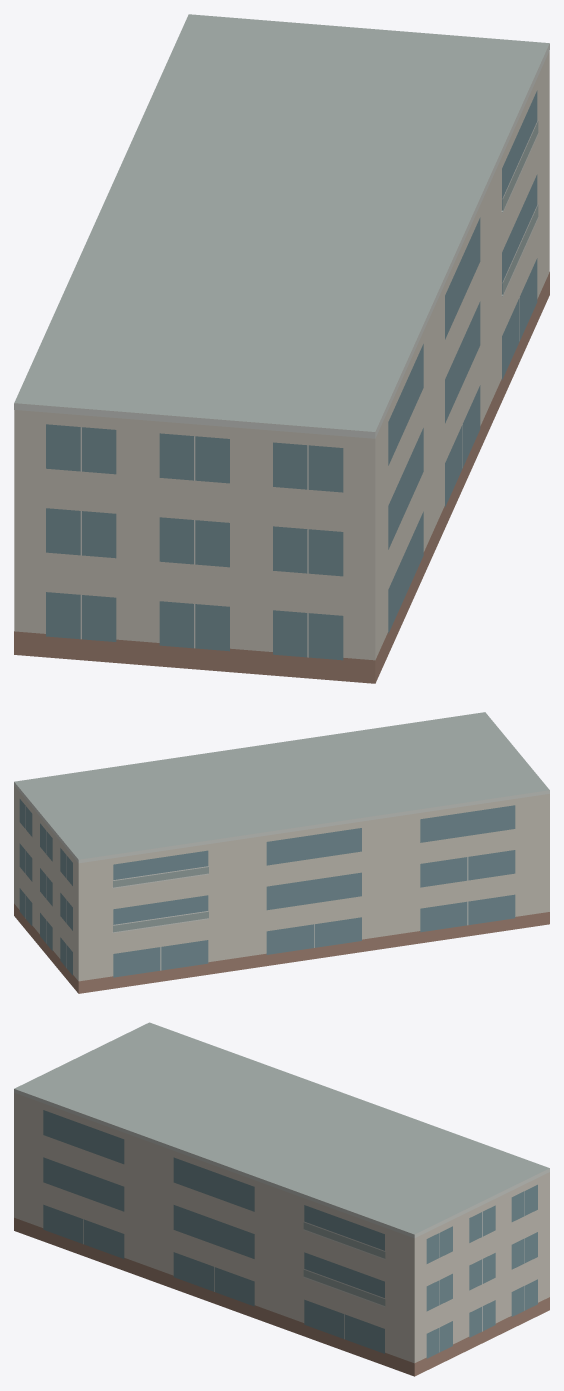
Rendered from residential-9ecfa8f3-4fd5-4fa2-b3b3-dbd990f0a59f.glb.
3 views of the same model, one above another, from view 1: azimuth 30°, elevation 25°; view 2: azimuth 150°, elevation 25°; view 3: azimuth 270°, elevation 25° (orthographic). The views are drawn at different scales.
Visible parts, largest first — view 1: residential-9ecfa8f3-4fd5-4fa2-b3b3-dbd990f0a59f.tmp; view 2: residential-9ecfa8f3-4fd5-4fa2-b3b3-dbd990f0a59f.tmp; view 3: residential-9ecfa8f3-4fd5-4fa2-b3b3-dbd990f0a59f.tmp.
Part boxes in pixels (left/top/right/bottom): residential-9ecfa8f3-4fd5-4fa2-b3b3-dbd990f0a59f.tmp: left=14, top=14, right=549, bottom=683; residential-9ecfa8f3-4fd5-4fa2-b3b3-dbd990f0a59f.tmp: left=14, top=712, right=549, bottom=993; residential-9ecfa8f3-4fd5-4fa2-b3b3-dbd990f0a59f.tmp: left=14, top=1022, right=549, bottom=1376.
Bounding box in the file's own units: 29.33 × 9.15 × 31.3.
